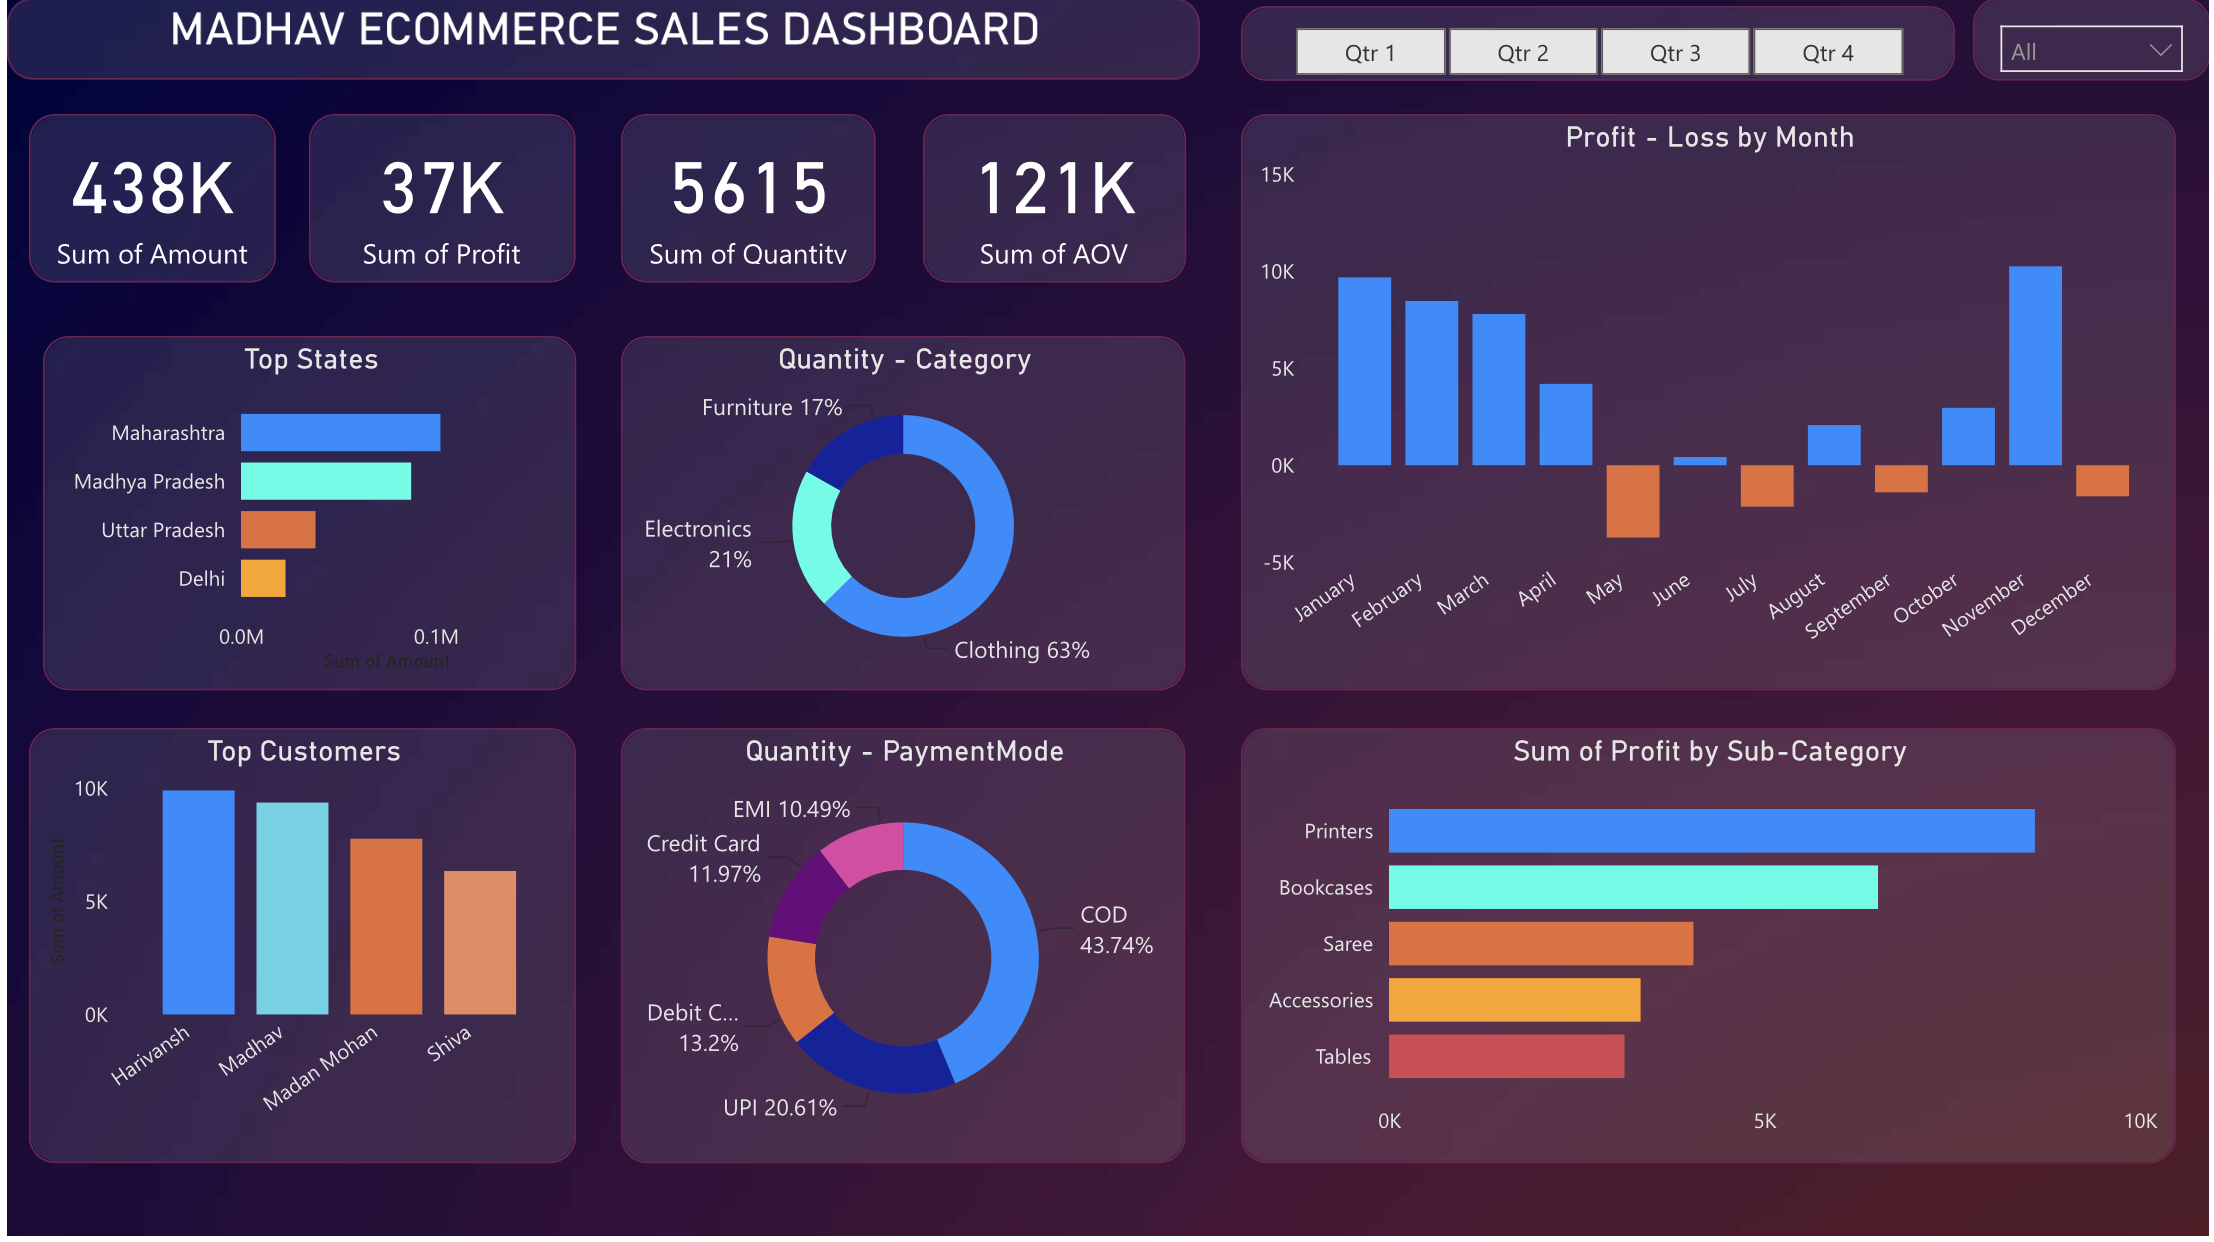

Layout of this report page (visuals, bound fields, positions):
{"tool":"powerbi","page":{"name":"Page 1","canvas":[1280,720],"ordinal":0},"visuals":[{"type":"textbox","title":" MADHAV   ECOMMERCE  SALES  DASHBOARD","box":[0,0,693.6,47.5],"z":0},{"type":"columnChart","title":"Profit - Loss by Month","fields":{"Y":["Sum(Details.Profit)"],"Category":["Orders.Order Date.Variation.Date Hierarchy.Month"]},"box":[717.7,67.2,543.4,334.9],"z":1},{"type":"barChart","fields":{"Category":["Details.Sub-Category"],"Y":["Sum(Details.Profit)"]},"box":[717.7,424.9,543.4,252.9],"z":2},{"type":"donutChart","title":"Quantity - Category","fields":{"Category":["Details.Category"],"Y":["Sum(Details.Quantity)"]},"box":[356.6,195.9,328.1,206.2],"z":3},{"type":"donutChart","title":" Quantity - PaymentMode","fields":{"Category":["Details.PaymentMode"],"Y":["Sum(Details.Quantity)"]},"box":[356.6,424.9,328.1,252.9],"z":4},{"type":"card","fields":{"Values":["Sum(Details.Amount)"]},"box":[12.5,67.2,143.5,98],"z":5},{"type":"card","fields":{"Values":["Sum(Details.Quantity)"]},"box":[356.6,67.2,148.1,98],"z":6},{"type":"card","fields":{"Values":["Sum(Details.Profit)"]},"box":[175.4,67.2,154.9,98],"z":7},{"type":"card","fields":{"Values":["Sum(Details.AOV)"]},"box":[532,67.2,152.7,98],"z":8},{"type":"barChart","title":"Top States","fields":{"Y":["Sum(Details.Amount)"],"Category":["Orders.State"]},"box":[20.5,195.9,309.9,206.2],"z":9},{"type":"columnChart","title":"Top Customers","fields":{"Category":["Orders.CustomerName"],"Y":["Sum(Details.Amount)"]},"box":[12.5,424.9,317.8,252.9],"z":10},{"type":"slicer","fields":{"Values":["Orders.Order Date.Variation.Date Hierarchy.Quarter"]},"box":[717.7,4.6,414.7,43.3],"z":11},{"type":"slicer","fields":{"Values":["Orders.State"]},"box":[1142.7,0,137.8,47.8],"z":12}]}

Visuals, with their boxes in screenshot pixels (x1, y1, x2, y2), scaled from the page's 1280x720 canvas onto the 2214x1242 screenshot:
" MADHAV   ECOMMERCE  SALES  DASHBOARD" textbox: bbox=[0, 0, 1200, 82]
"Profit - Loss by Month" columnChart: bbox=[1241, 116, 2181, 694]
barChart - Details.Sub-Category x Sum(Details.Profit): bbox=[1241, 733, 2181, 1169]
"Quantity - Category" donutChart: bbox=[617, 338, 1184, 694]
" Quantity - PaymentMode" donutChart: bbox=[617, 733, 1184, 1169]
card - Sum(Details.Amount): bbox=[22, 116, 270, 285]
card - Sum(Details.Quantity): bbox=[617, 116, 873, 285]
card - Sum(Details.Profit): bbox=[303, 116, 571, 285]
card - Sum(Details.AOV): bbox=[920, 116, 1184, 285]
"Top States" barChart: bbox=[35, 338, 571, 694]
"Top Customers" columnChart: bbox=[22, 733, 571, 1169]
slicer - Orders.Order Date.Variation.Date Hierarchy.Quarter: bbox=[1241, 8, 1959, 83]
slicer - Orders.State: bbox=[1977, 0, 2213, 82]
